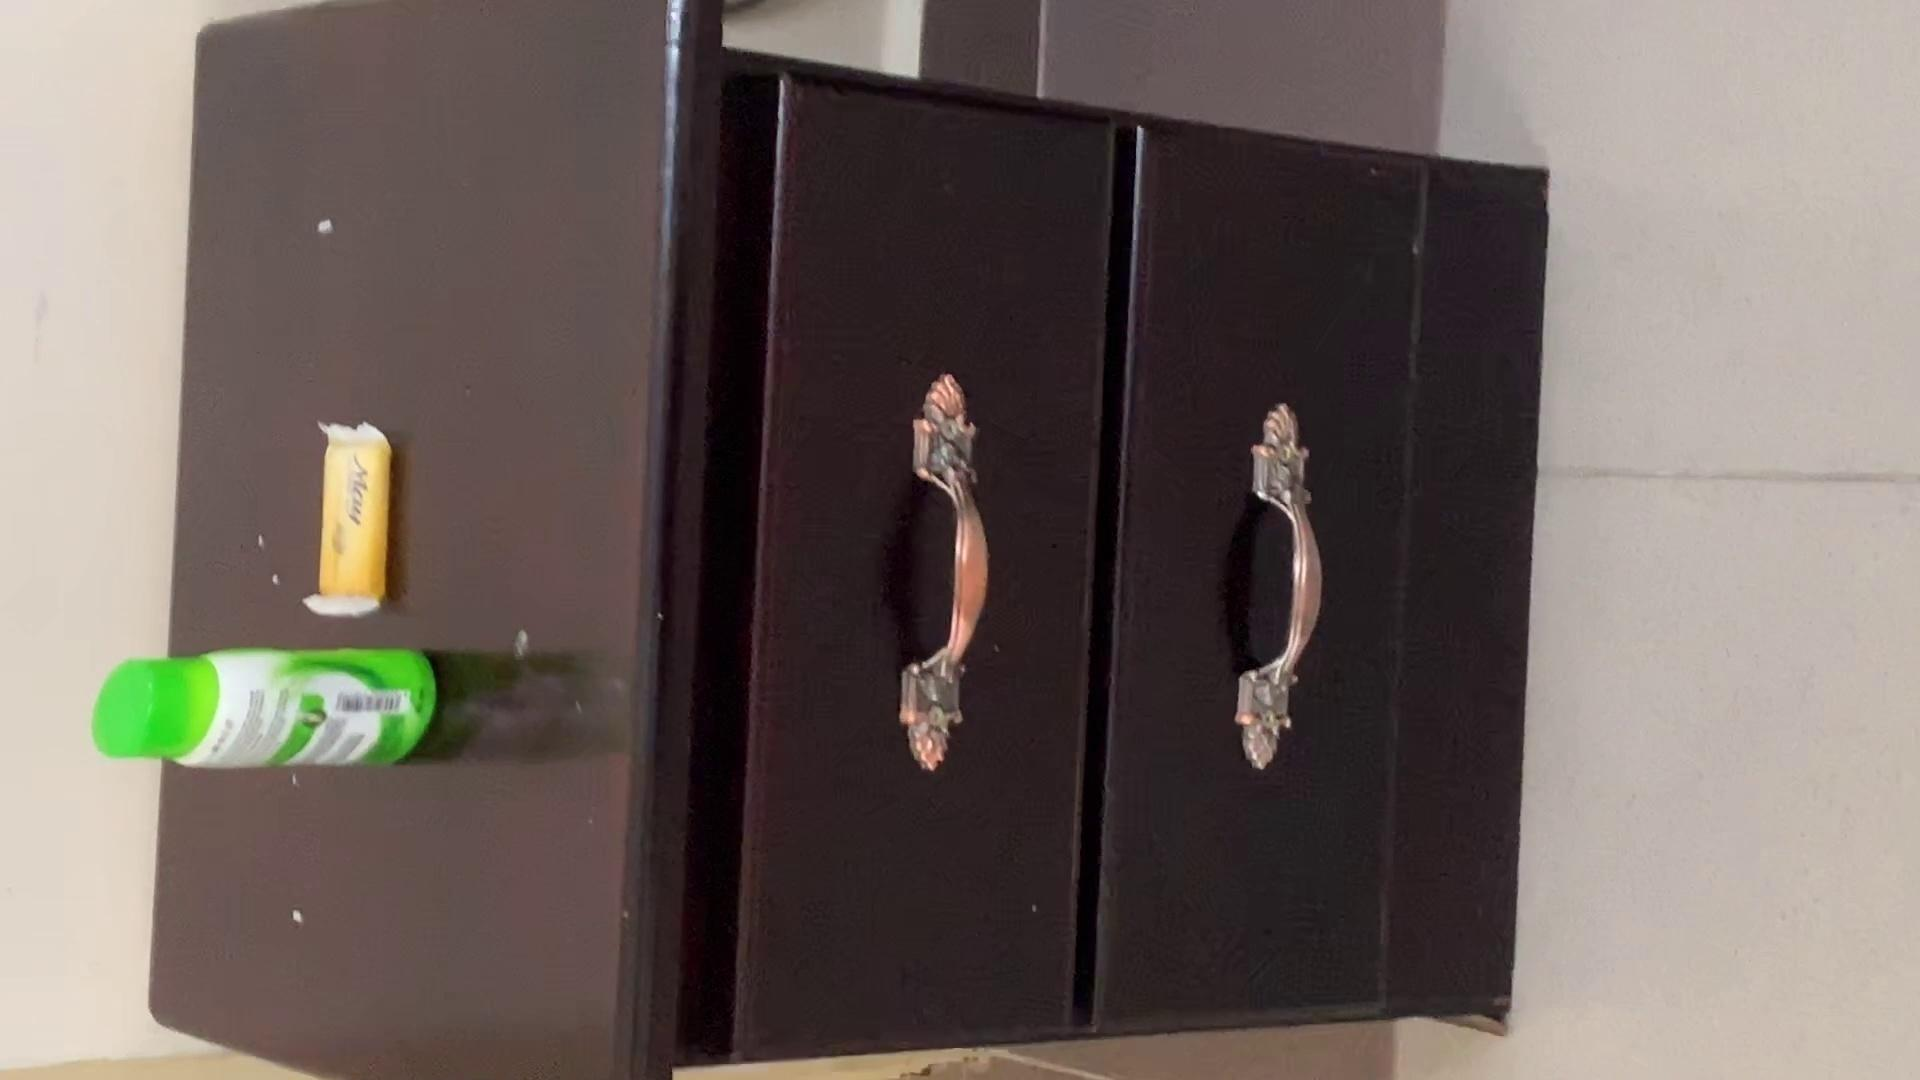cabinet_door: (758, 96, 1106, 1054), (1126, 140, 1416, 1029)
handle: (891, 363, 1004, 789), (1216, 390, 1337, 783)
